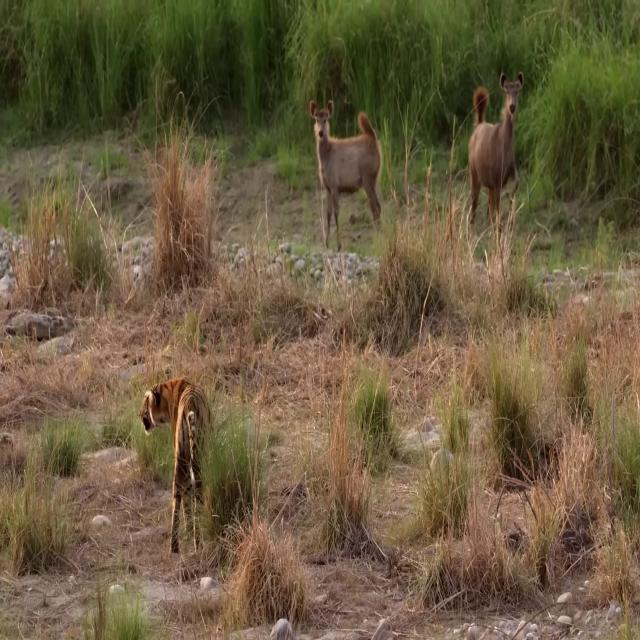tiger: (138, 373, 217, 582)
